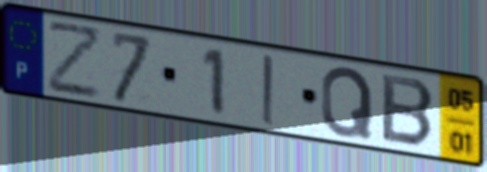1: (200, 47, 229, 119)
7: (111, 30, 155, 105)
B: (379, 70, 438, 150)
I: (260, 52, 278, 129)
Q: (318, 65, 376, 141)
Z: (46, 20, 105, 101)
